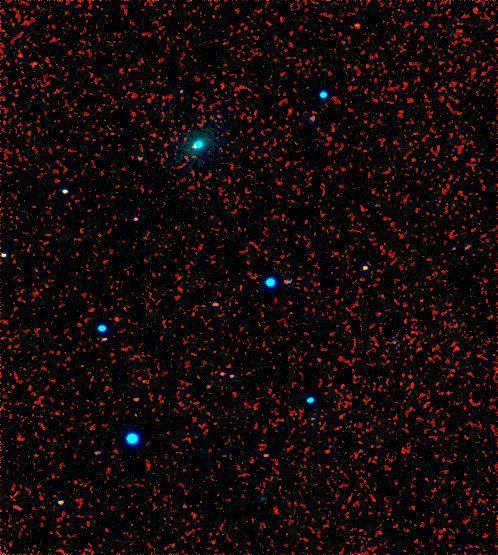star: (343, 10, 373, 40)
